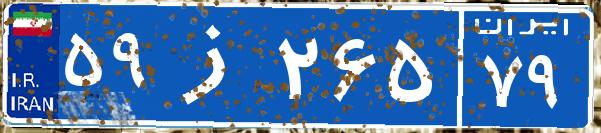2: (273, 28, 330, 110)
5: (385, 28, 445, 110), (57, 26, 110, 107)
6: (330, 28, 385, 110)
7: (475, 38, 525, 113)
9: (110, 28, 158, 105), (525, 38, 570, 115)
ز: (158, 15, 273, 115)
